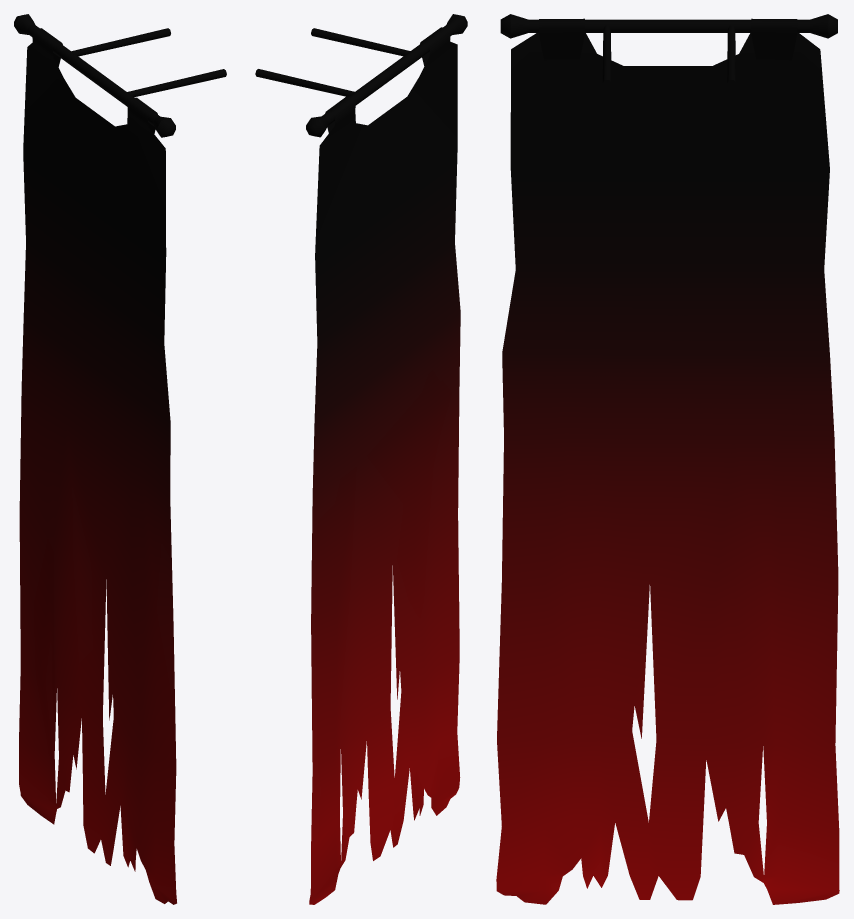
The model's file is TFD_Cloth_09B.fbx.
3 views of the same model, side by side, from view 1: azimuth 30°, elevation 25°; view 2: azimuth 150°, elevation 25°; view 3: azimuth 270°, elevation 25° (orthographic). The views are drawn at different scales.
Visible parts, largest first — view 1: TFD_Cloth_09B_LOD1; view 2: TFD_Cloth_09B_LOD1; view 3: TFD_Cloth_09B_LOD1.
Boxes of the visible parts, x1=… form: TFD_Cloth_09B_LOD1: x1=14, y1=14, x2=226, y2=904; TFD_Cloth_09B_LOD1: x1=255, y1=14, x2=467, y2=904; TFD_Cloth_09B_LOD1: x1=496, y1=14, x2=839, y2=904.
Size of the model in its own units: 109 by 738 by 259.
